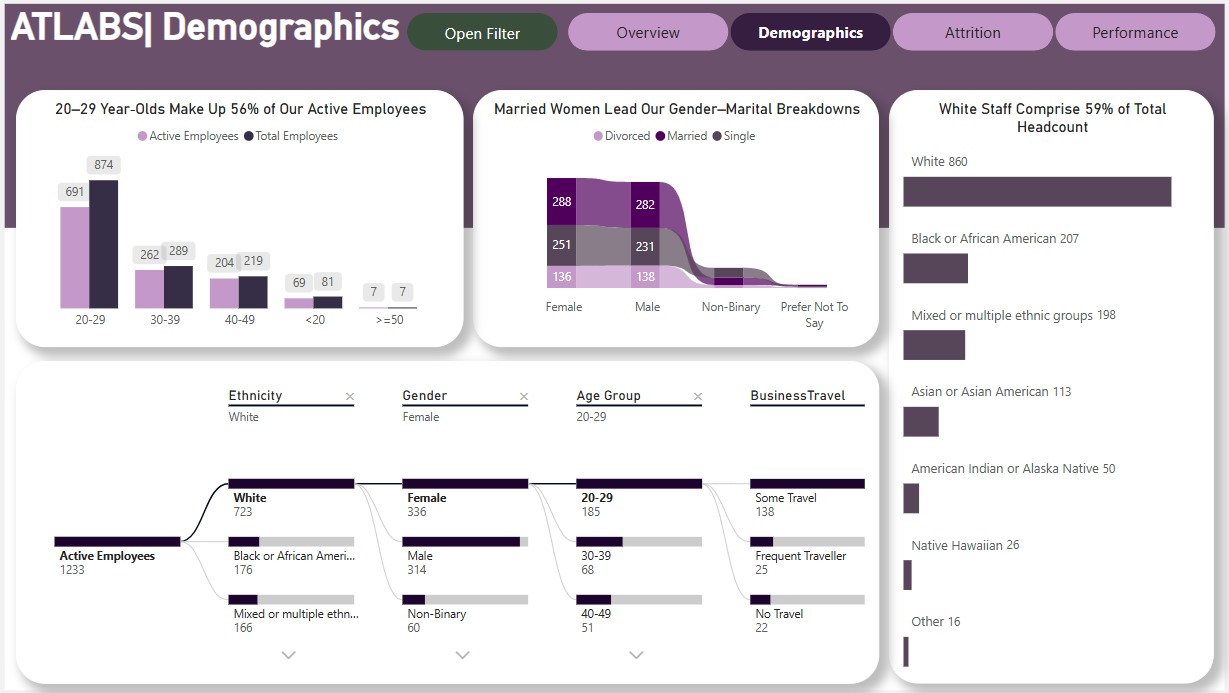

Layout of this report page (visuals, bound fields, positions):
{"tool":"powerbi","page":{"name":"Demographics","canvas":[1280,720],"ordinal":1},"visuals":[{"type":"image","box":[0,0,1279.8,720],"z":0},{"type":"actionButton","title":"Open Filter Button","box":[424.9,14.3,156,39.4],"z":0,"group":"g1"},{"type":"clusteredBarChart","title":"White Staff Comprise 59% of Total Headcount","fields":{"Category":["Employee.Ethnicity"],"Y":["_Measures.Blank Measure","_Measures.Total Employees"]},"box":[924.2,94,336.5,614.2],"z":1000},{"type":"ribbonChart","title":"Married Women Lead Our Gender–Marital Breakdowns","fields":{"Category":["Employee.Gender"],"Y":["_Measures.Total Employees"],"Series":["Employee.MaritalStatus"]},"box":[493.7,94,420.2,266],"z":2000},{"type":"textbox","box":[10.3,0,426.1,69.1],"z":3000},{"type":"pageNavigator","box":[591.6,14.3,670.5,39.4],"z":4000},{"type":"clusteredColumnChart","title":"20–29 Year‑Olds Make Up 56% of Our Active Employees","fields":{"Category":["Employee.Age Group"],"Y":["_Measures.Active Employees","_Measures.Total Employees"]},"box":[20.6,94,462.9,266],"z":5000},{"type":"decompositionTreeVisual","fields":{"Analyze":["_Measures.Active Employees"],"ExplainBy":["Employee.Ethnicity","Employee.Gender","Employee.Age Group","Employee.BusinessTravel"]},"box":[20.6,374.7,893.4,333.6],"z":6000},{"type":"group","id":"g1","title":"filter buttons ","box":[424.9,14.3,156,39.7],"z":8000}]}

Visuals, with their boxes in screenshot pixels (x1, y1, x2, y2), scaled from the page's 1280x720 canvas onto the 1229x693 screenshot:
image: 0/0/1228/692
"Open Filter Button" actionButton: 408/14/558/52
"White Staff Comprise 59% of Total Headcount" clusteredBarChart: 887/90/1210/682
"Married Women Lead Our Gender–Marital Breakdowns" ribbonChart: 474/90/877/346
textbox: 10/0/419/67
pageNavigator: 568/14/1212/52
"20–29 Year‑Olds Make Up 56% of Our Active Employees" clusteredColumnChart: 20/90/464/346
decompositionTreeVisual - _Measures.Active Employees x Employee.Ethnicity: 20/361/878/682
"filter buttons " group: 408/14/558/52
